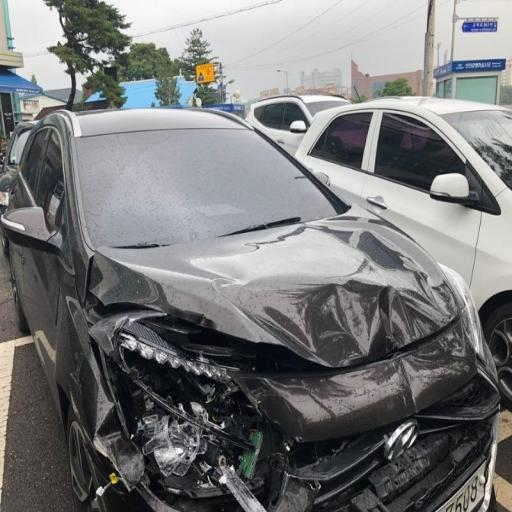broken: (78, 278, 246, 512)
dent: (318, 352, 485, 458)
scratch: (200, 251, 388, 325)
